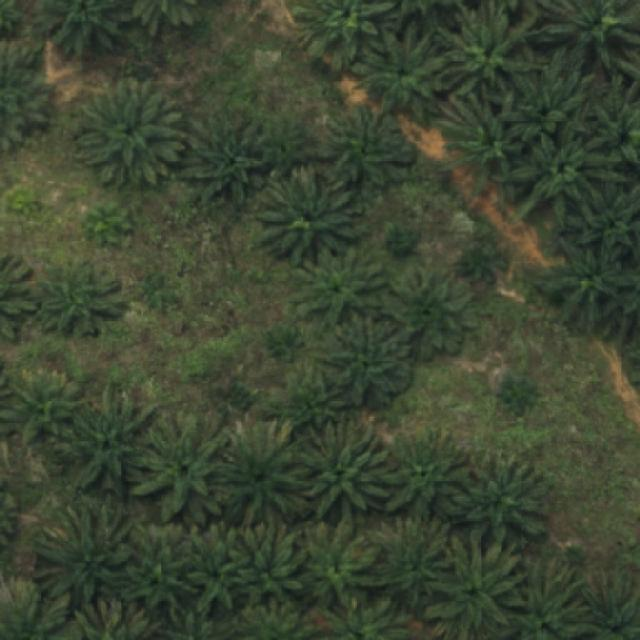Kelapa_Sawit: (131, 409, 234, 528), (78, 76, 184, 189), (430, 84, 524, 211), (510, 130, 628, 228), (212, 412, 310, 526), (352, 19, 450, 126), (256, 164, 356, 267), (31, 503, 134, 602), (442, 1, 547, 98), (72, 379, 156, 498), (296, 416, 392, 519), (380, 262, 480, 360), (497, 47, 597, 144), (453, 447, 550, 545), (378, 424, 474, 522), (538, 237, 640, 321), (324, 311, 413, 407), (372, 516, 460, 613), (288, 244, 386, 330), (292, 519, 381, 613), (182, 110, 266, 207), (121, 524, 199, 614), (324, 102, 402, 187), (40, 257, 125, 335), (8, 368, 90, 447), (230, 522, 304, 608), (190, 520, 252, 615)
